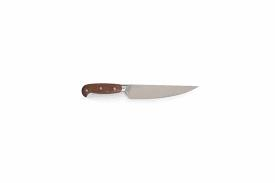Knife: (81, 82, 198, 99)
